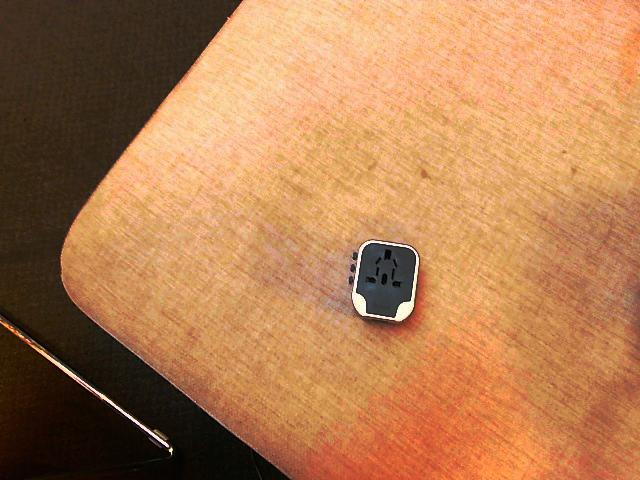adapter: (349, 238, 419, 322)
